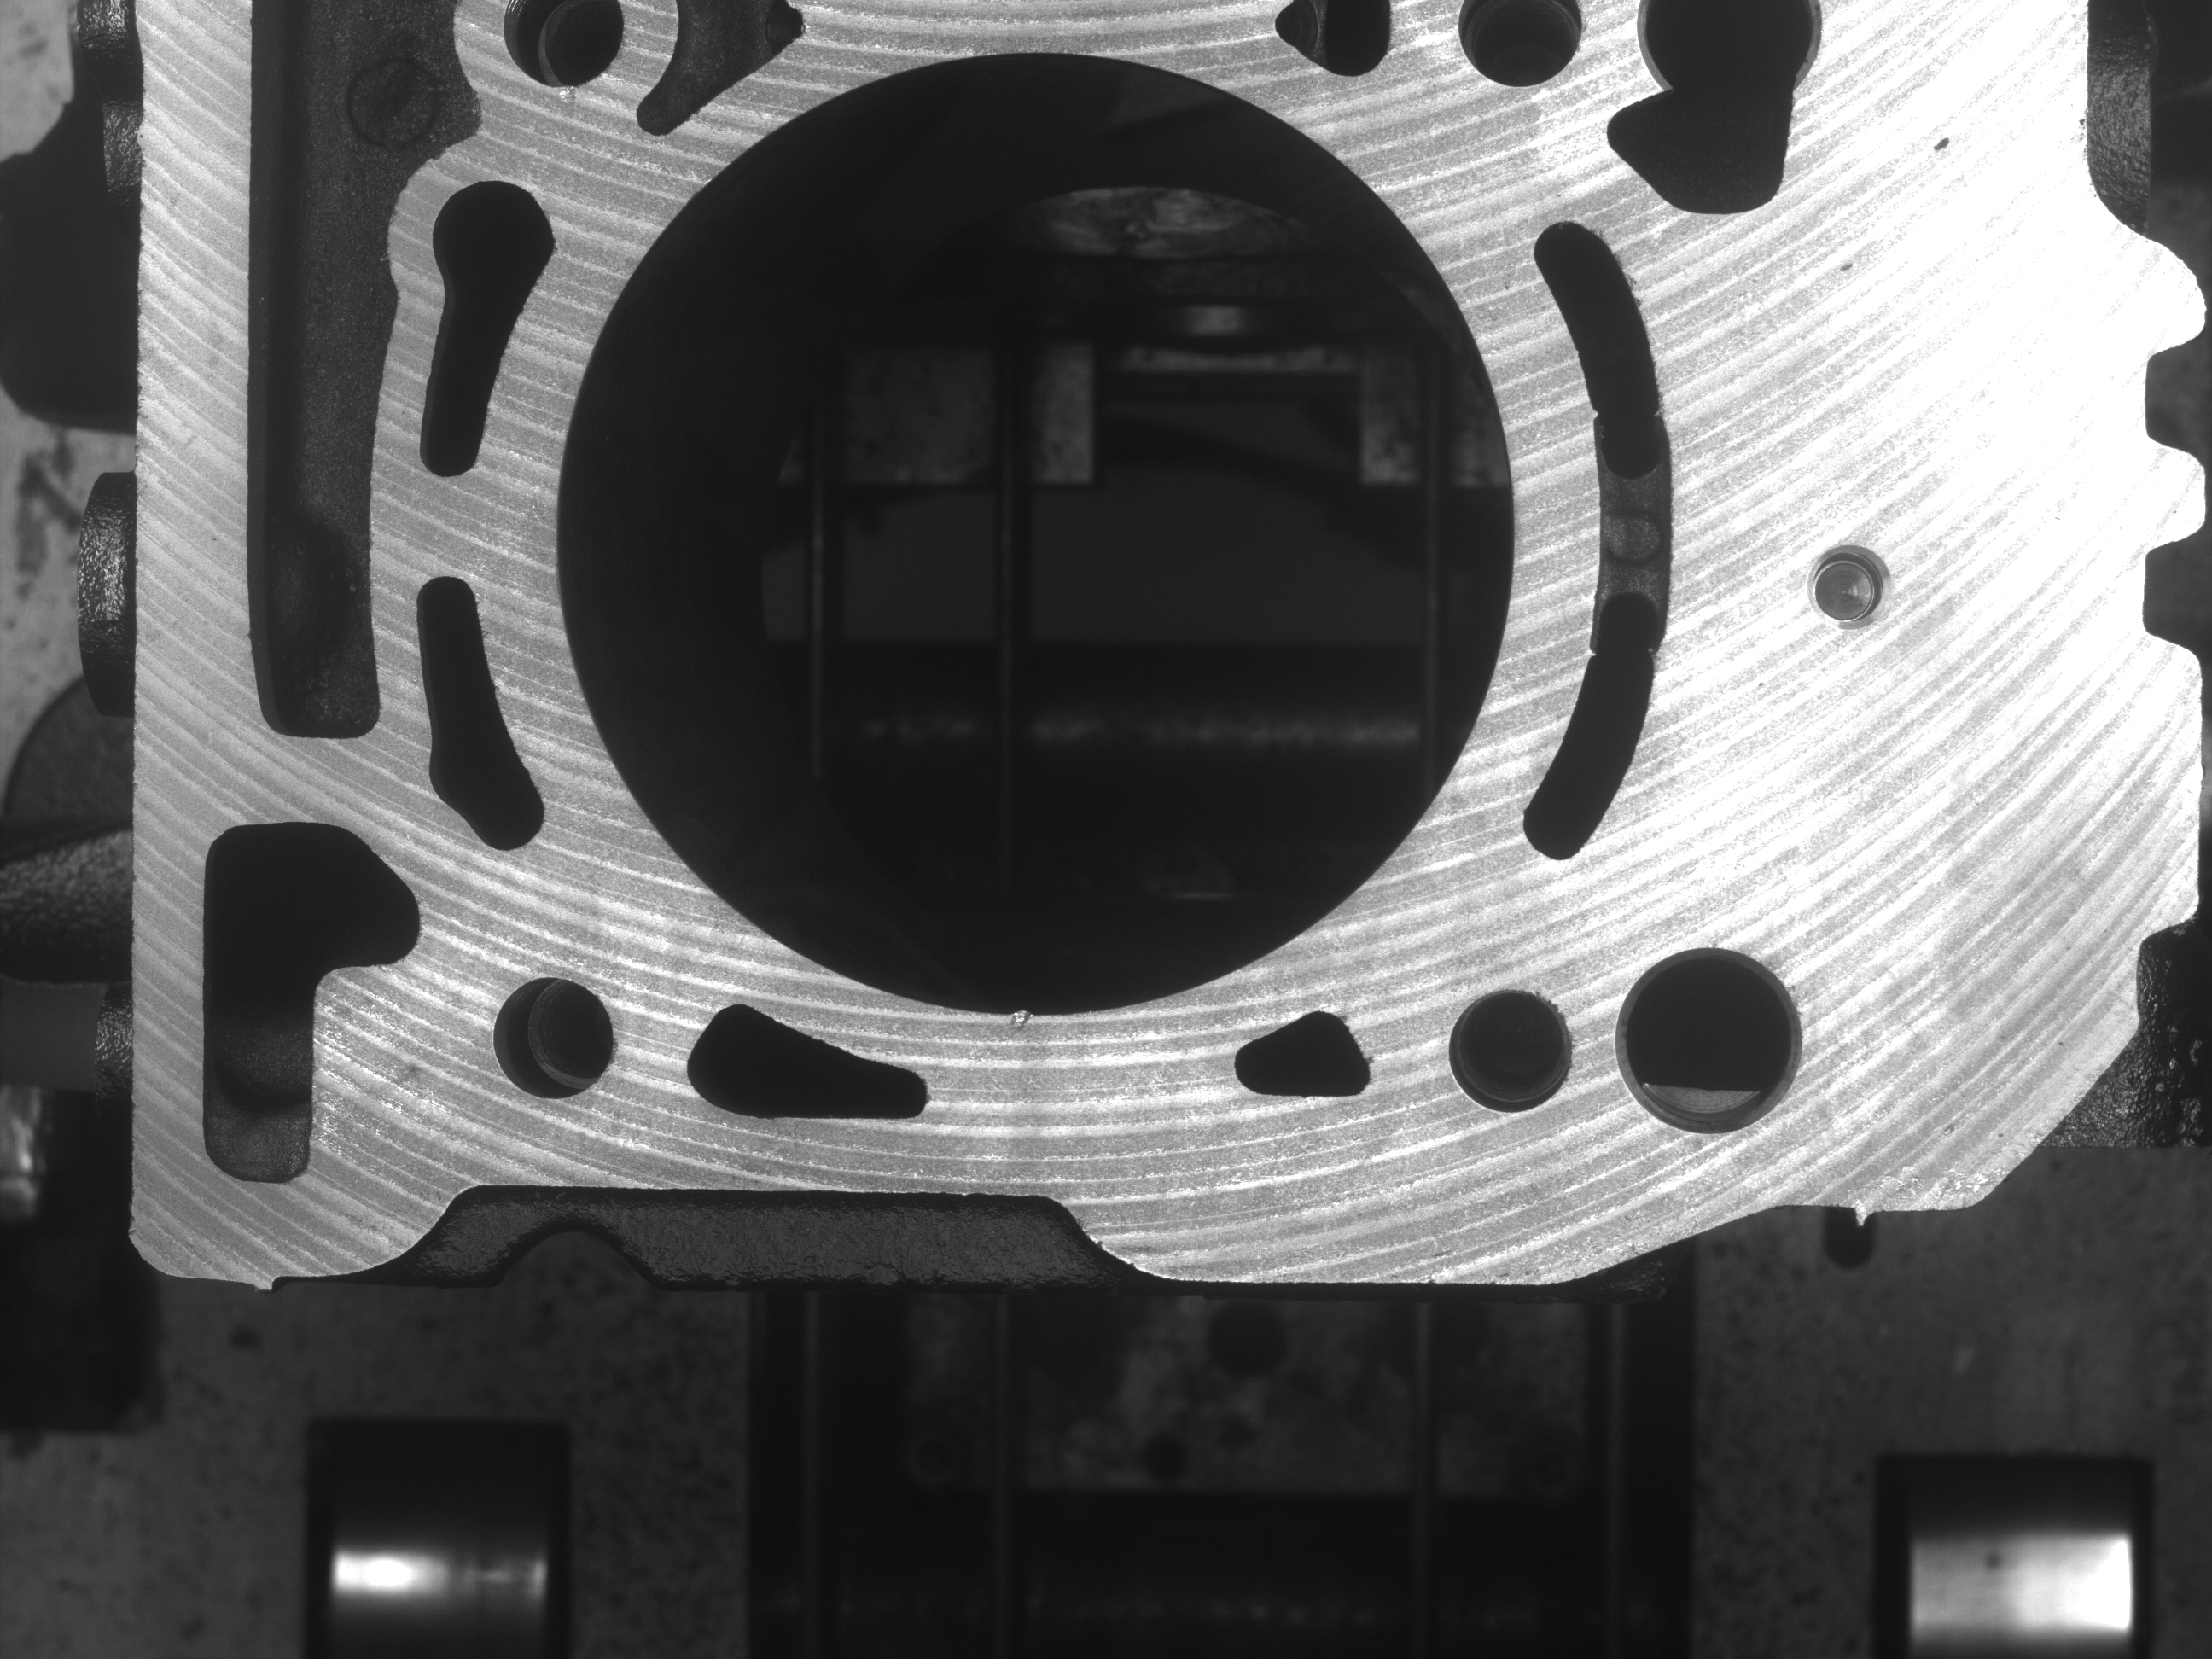sandhole: (989, 988, 1047, 1051)
